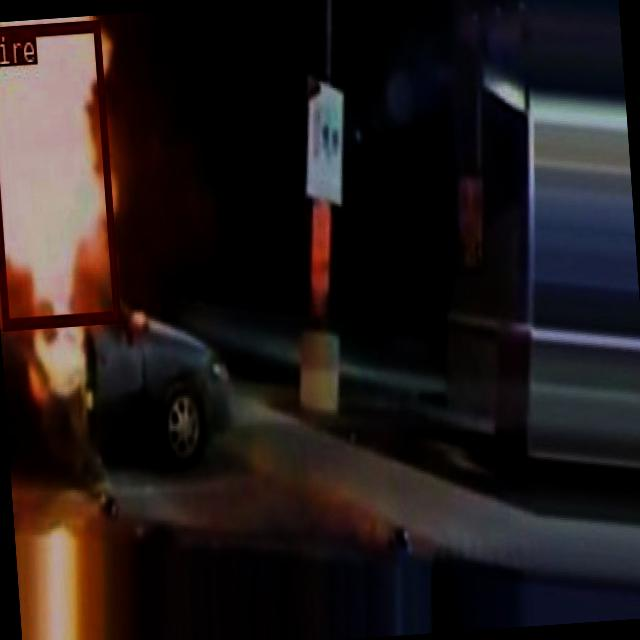fire: (0, 19, 119, 328)
